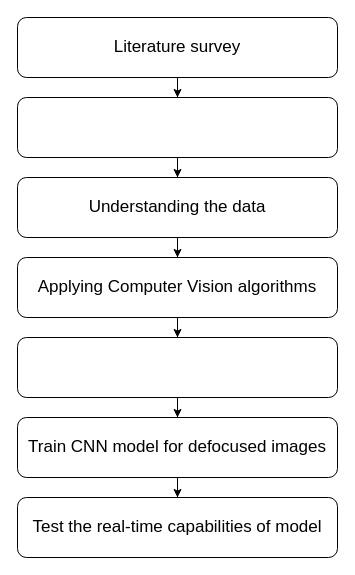
The diagram is 355 pixels wide and 575 high, and some of its shapes have lost their labels. The box of each missing label's shape, as (x1, y1, x2, y2) in pixels:
Familiarising with the toolkit: (16, 96, 338, 158)
Train CNN model for in-focus images: (16, 336, 338, 398)
